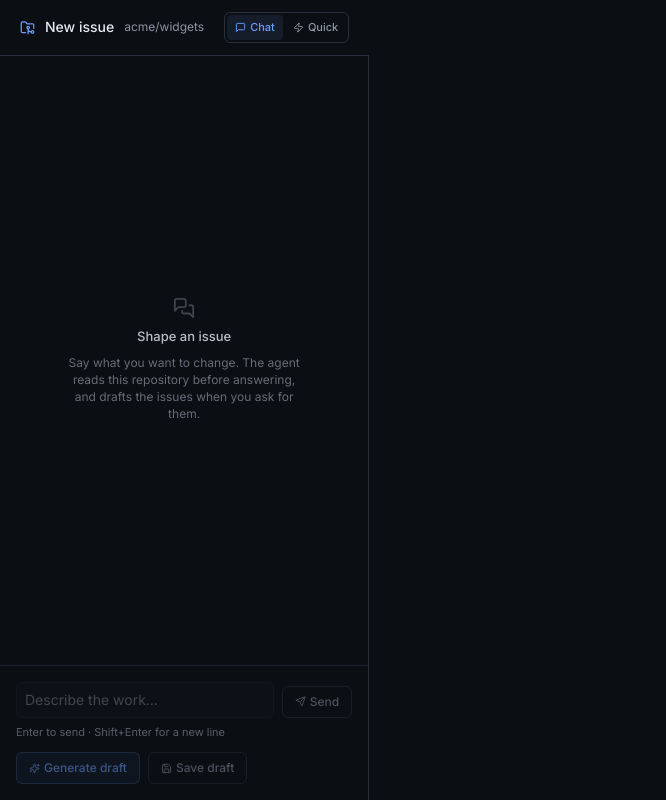
ComposerView › splits into the draft pane once a draft lands
Type "rate-limit the webhook" into the text box with placeholder "Describe the work…" at (145, 700), box [16,682,274,718]
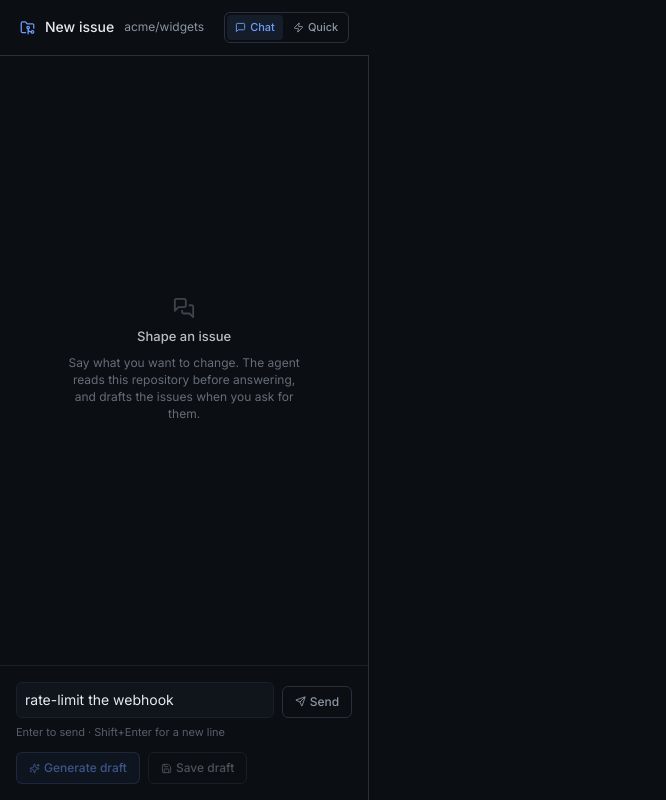
Click the button "Send" at (317, 702), box [282,686,352,718]
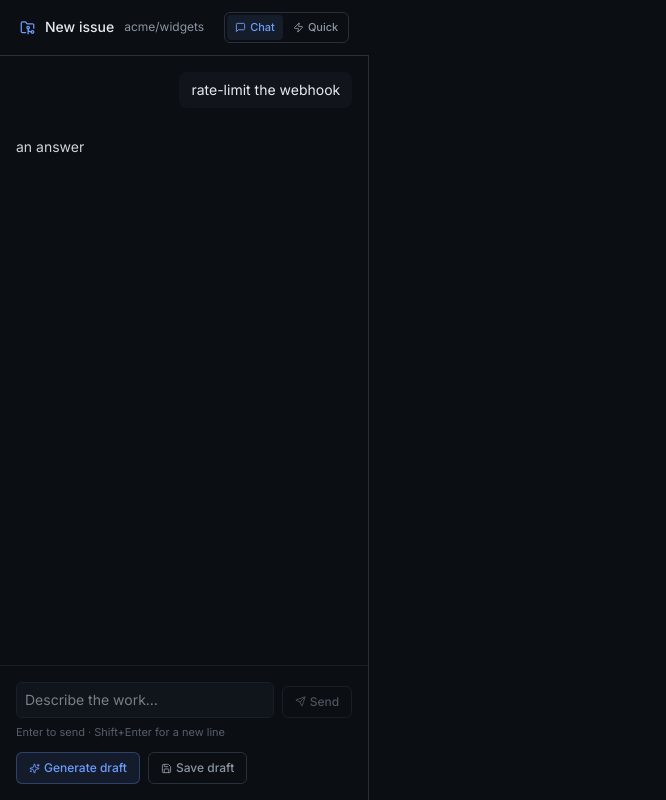
Check: the field labelled "Title" is not shown
Check: the text "an answer" is shown, box [16,138,84,155]
Check: the button "Generate draft" is enabled
Click the button "Generate draft" at (78, 768), box [16,752,140,784]
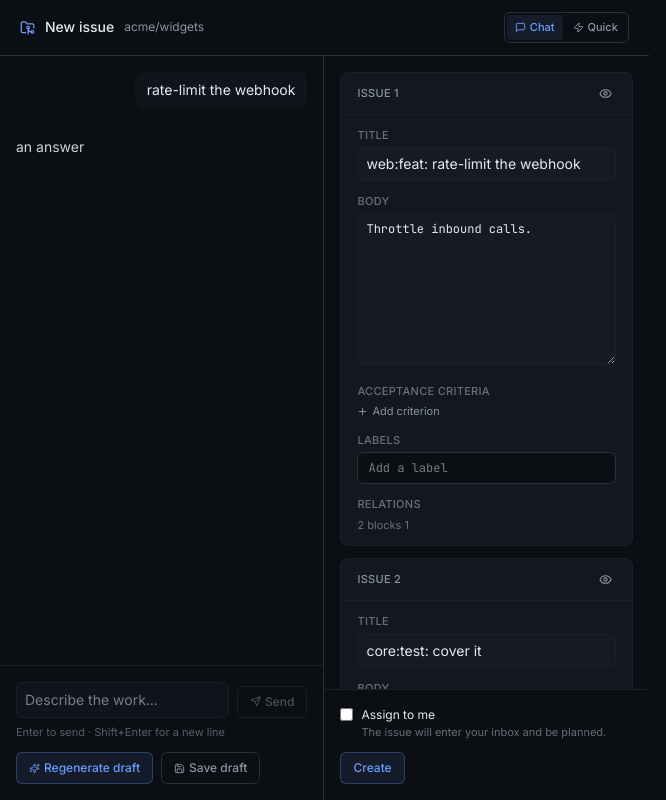
Check: the field showing "web:feat: rate-limit the webhook" below "Issue 1" is shown, box [357,147,616,181]
Check: the field showing "core:test: cover it" below "Issue 2" is shown, box [357,634,616,668]
Check: the button "Regenerate draft" is shown, box [16,752,153,784]
